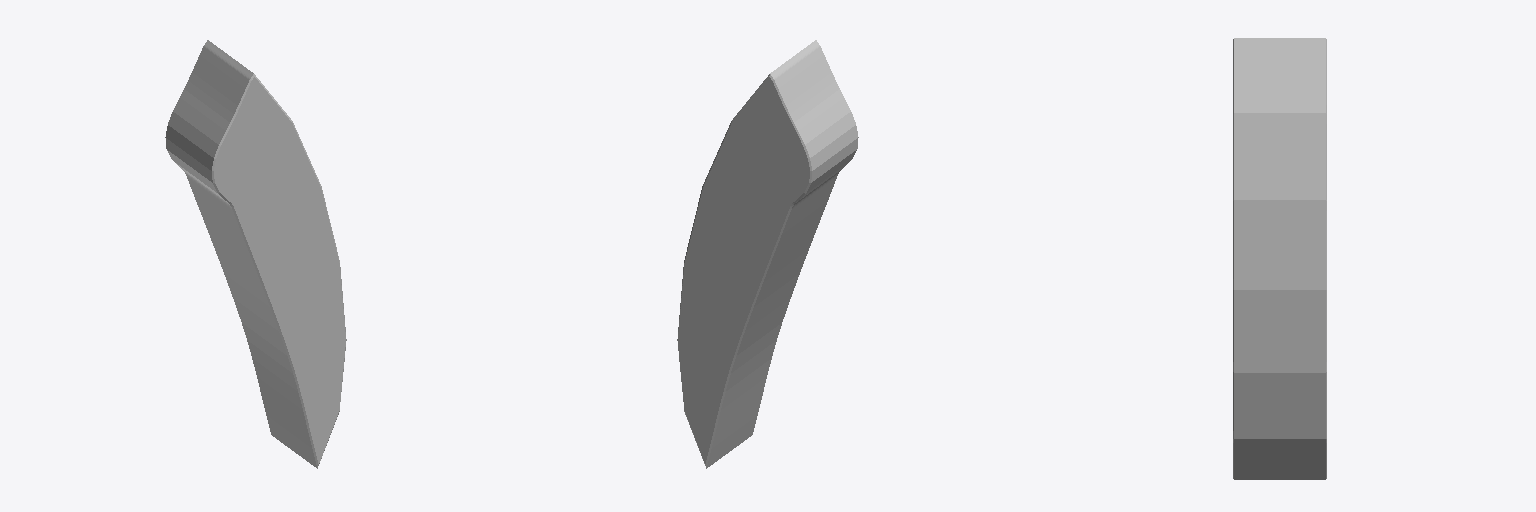
3 views of the same model, side by side, from view 1: azimuth 30°, elevation 25°; view 2: azimuth 150°, elevation 25°; view 3: azimuth 270°, elevation 25° (orthographic).
Visible parts, largest first — view 1: 1_Mesh.008; view 2: 1_Mesh.008; view 3: 1_Mesh.008.
Boxes of the visible parts, <box> form: 1_Mesh.008: <box>165,40,346,468</box>; 1_Mesh.008: <box>677,40,858,468</box>; 1_Mesh.008: <box>1233,38,1326,479</box>.
Bounding box in the file's own units: 1.19 × 3.45 × 0.7176.